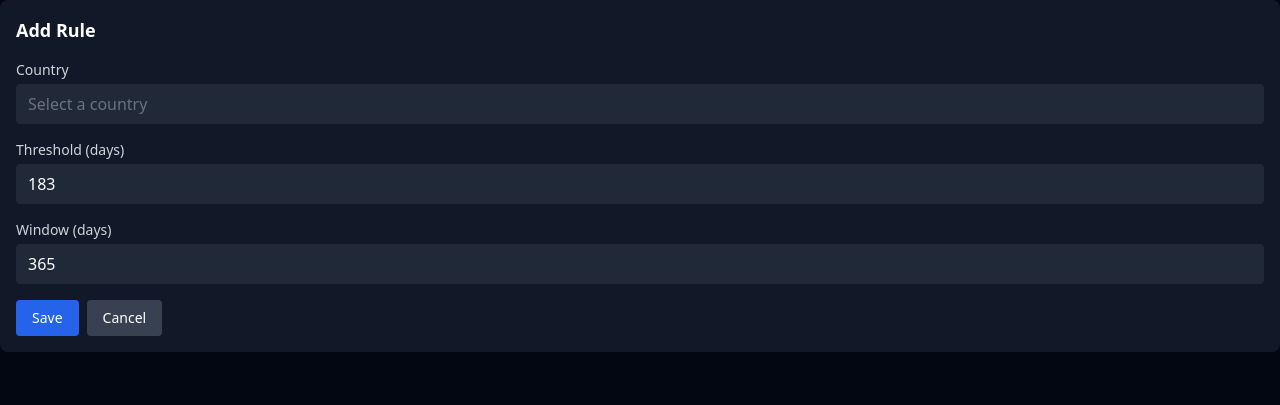
Scenario: RuleForm - Add Mode (no initialValues) › shows validation error when threshold is 0
The width and height of the screenshot is (1280, 405).
Select a country first
Step 1. Type "Canada" into the field with placeholder "Select a country" → coordinates (640, 104), box [16,84,1264,124]
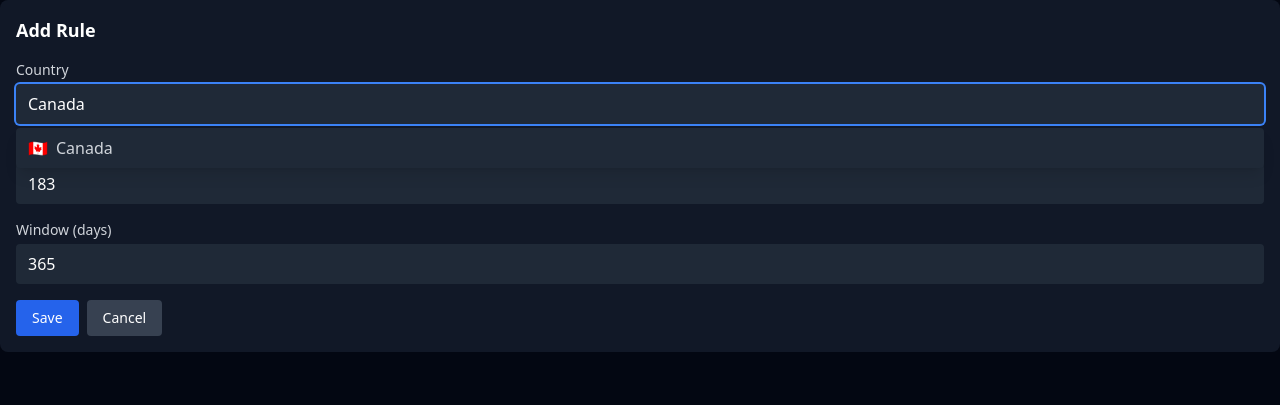
Step 2. Press the mouse on the text "Canada" → coordinates (84, 148), box [56,136,113,160]
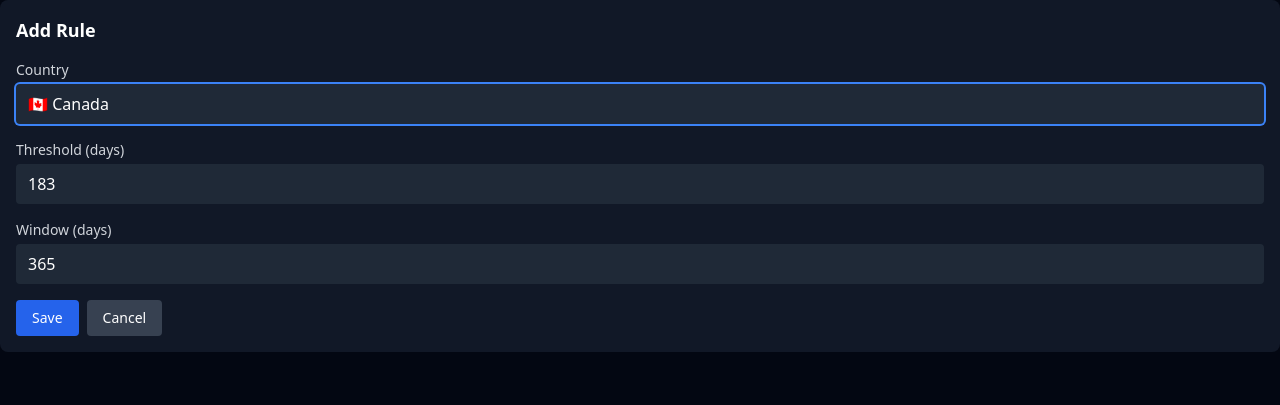
Set threshold to 0
Step 3. Replace the text in the number field labelled "Threshold (days)" with "0" → coordinates (640, 184), box [16,164,1264,204]
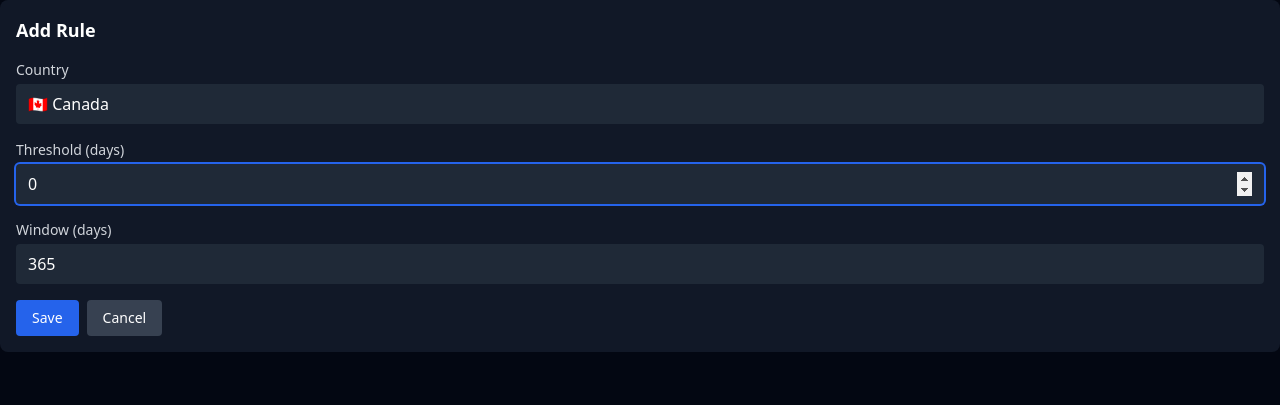
Step 4. Click the button "Save" → coordinates (47, 318), box [16,300,79,336]
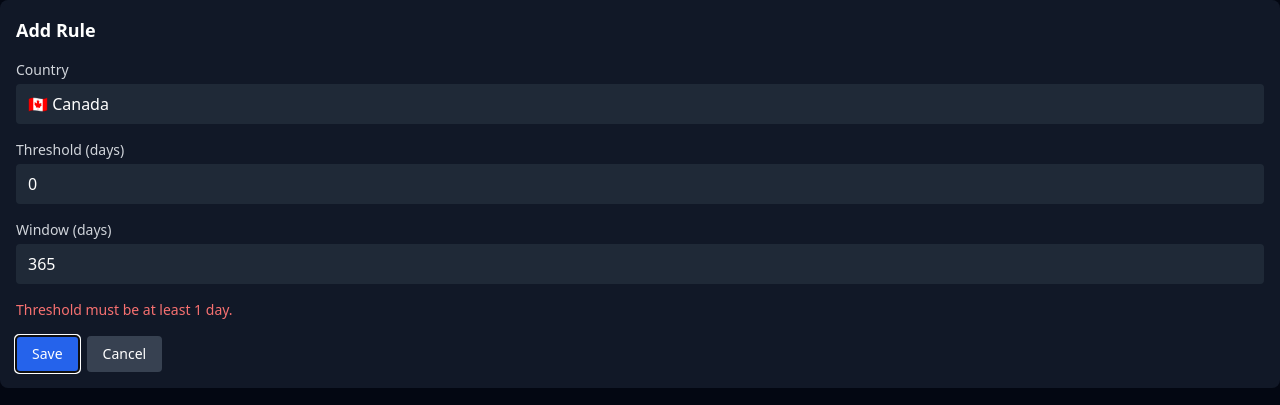
Now the text "Threshold must be at least 1 day." is shown, box [16,300,233,319]
